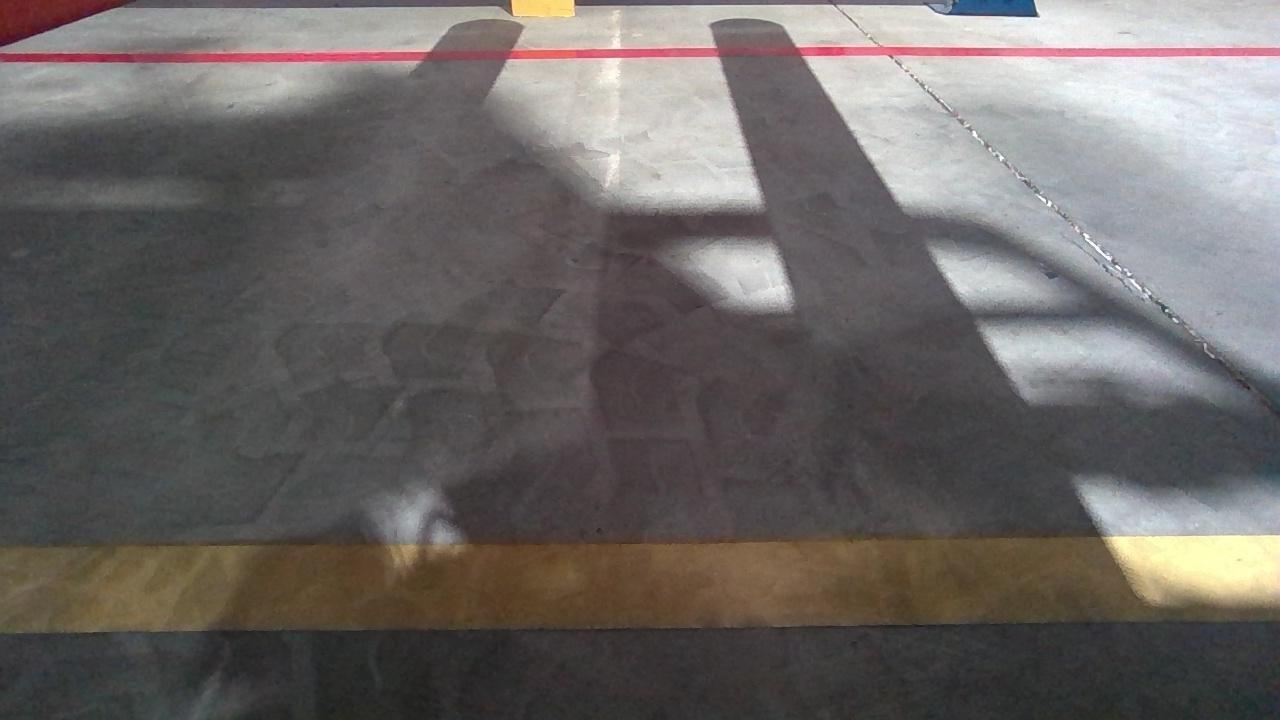red_line: (3, 43, 1269, 65)
yellow_line: (3, 548, 1277, 628)
